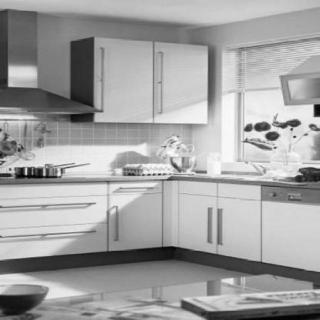other: (14, 186, 253, 254), (97, 41, 213, 127), (237, 117, 317, 145), (180, 298, 318, 314), (0, 282, 56, 310), (296, 60, 317, 71)
